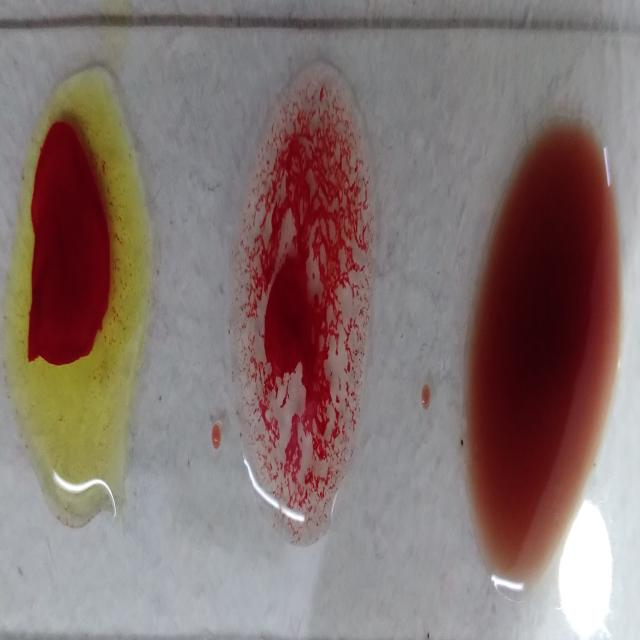B: (10, 82, 156, 532)
D: (233, 71, 373, 546)
